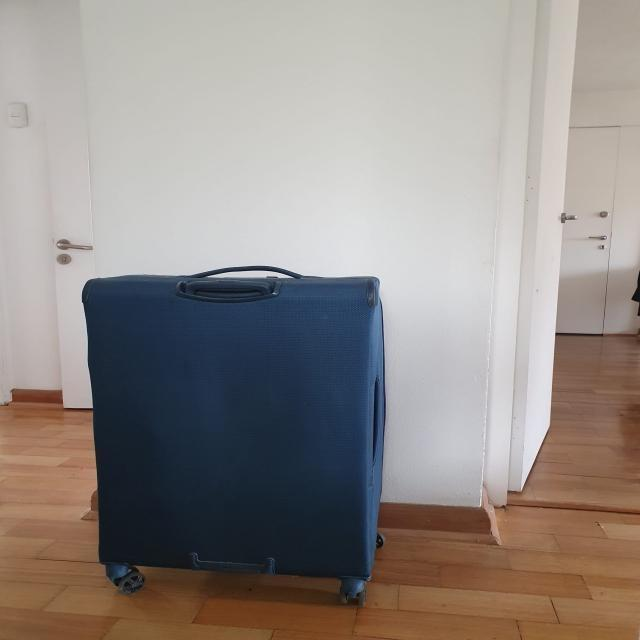Suitcase: (77, 262, 392, 607)
